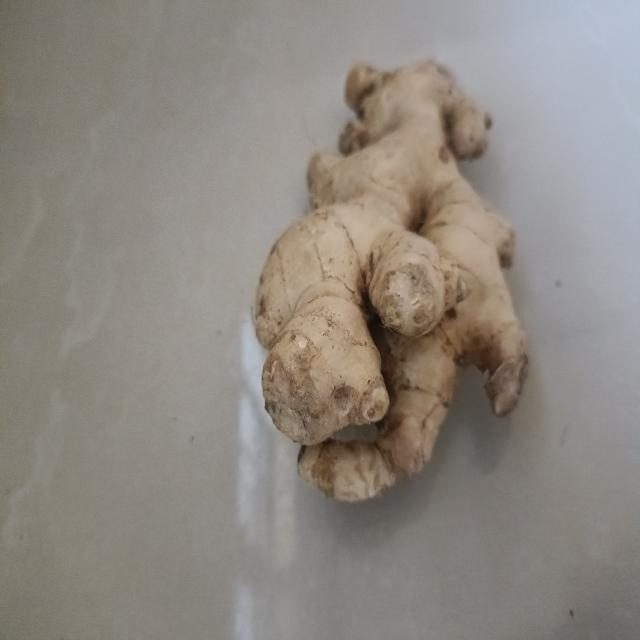ginger: (253, 52, 531, 509)
